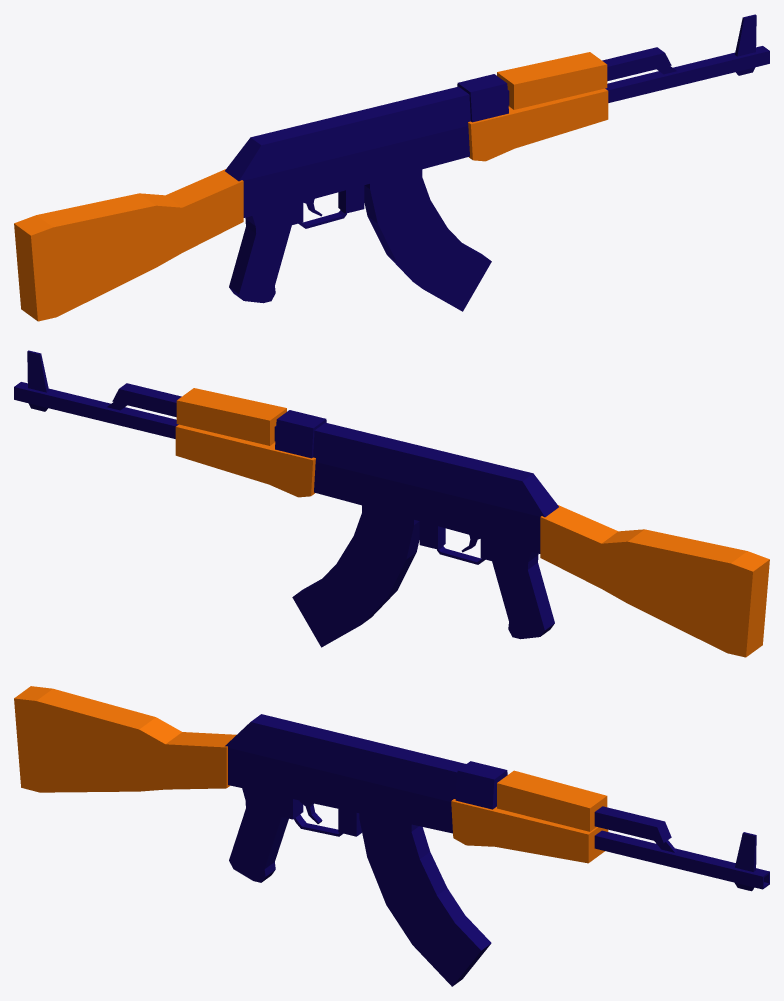
The model's file is gun.glb.
3 views of the same model, one above another, from view 1: azimuth 30°, elevation 25°; view 2: azimuth 150°, elevation 25°; view 3: azimuth 330°, elevation 25° (orthographic).
Parts seen in each view (by area): view 1: AK47; view 2: AK47; view 3: AK47.
Part boxes in pixels (<box>): AK47: <box>14,14,769,321</box>; AK47: <box>14,350,769,657</box>; AK47: <box>14,686,769,986</box>.
Size of the model in its own units: 9.99 by 2.83 by 0.4577.
